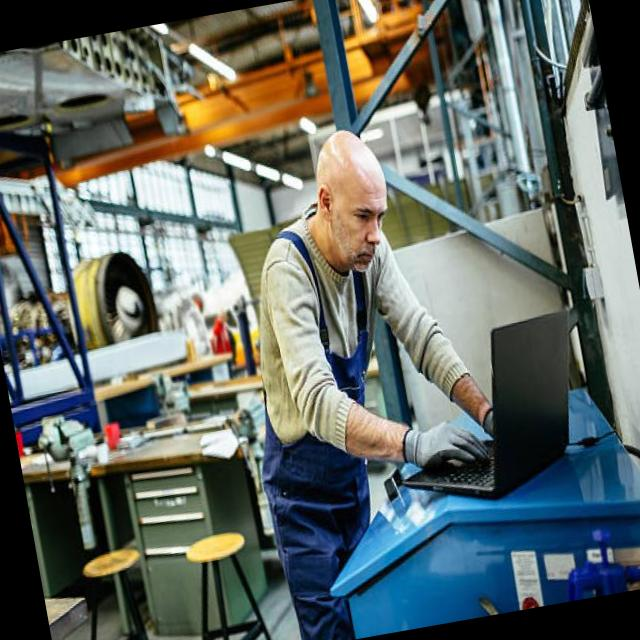Gloves: (396, 408, 492, 480)
